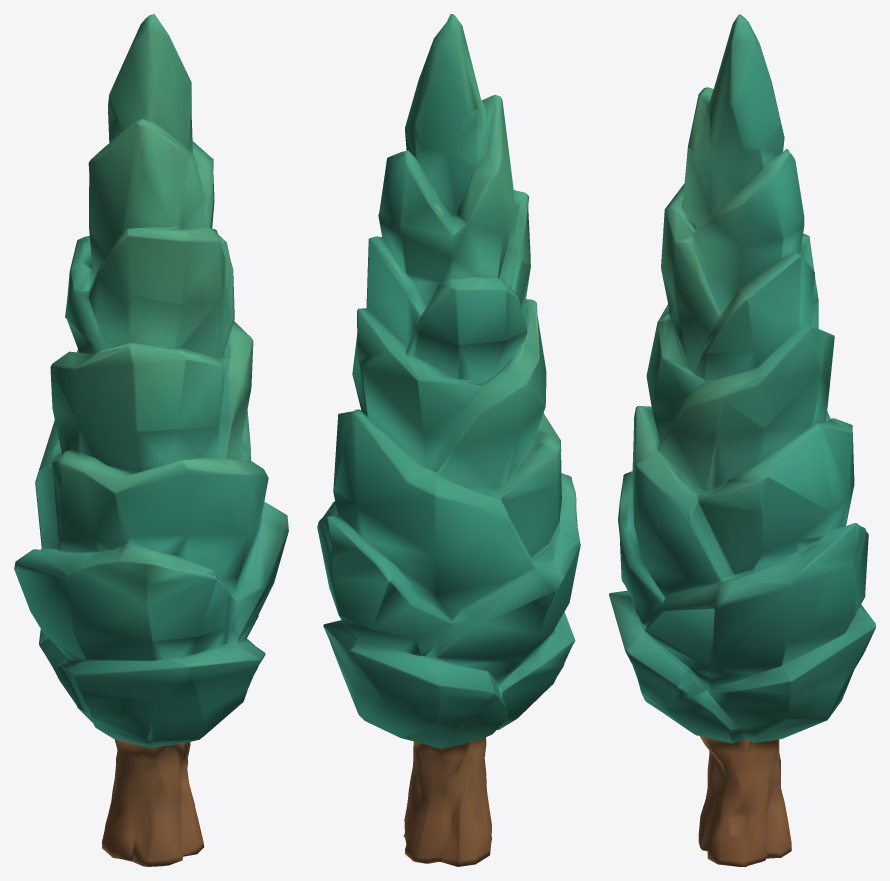
The model's file is tripo_raw.glb.
3 views of the same model, side by side, from view 1: azimuth 30°, elevation 25°; view 2: azimuth 150°, elevation 25°; view 3: azimuth 270°, elevation 25° (orthographic).
Parts seen in each view (by area): view 1: tripo_node_c722a86b-02e7-4ae3-8ecc-250317cc4aa8; view 2: tripo_node_c722a86b-02e7-4ae3-8ecc-250317cc4aa8; view 3: tripo_node_c722a86b-02e7-4ae3-8ecc-250317cc4aa8.
Part boxes in pixels (left/top/right/bottom): tripo_node_c722a86b-02e7-4ae3-8ecc-250317cc4aa8: left=14, top=14, right=288, bottom=866; tripo_node_c722a86b-02e7-4ae3-8ecc-250317cc4aa8: left=317, top=14, right=580, bottom=866; tripo_node_c722a86b-02e7-4ae3-8ecc-250317cc4aa8: left=609, top=14, right=875, bottom=866.
Bounding box in the file's own units: 0.3151 × 1 × 0.2916.
Materials: 1 (1 with a texture image).
